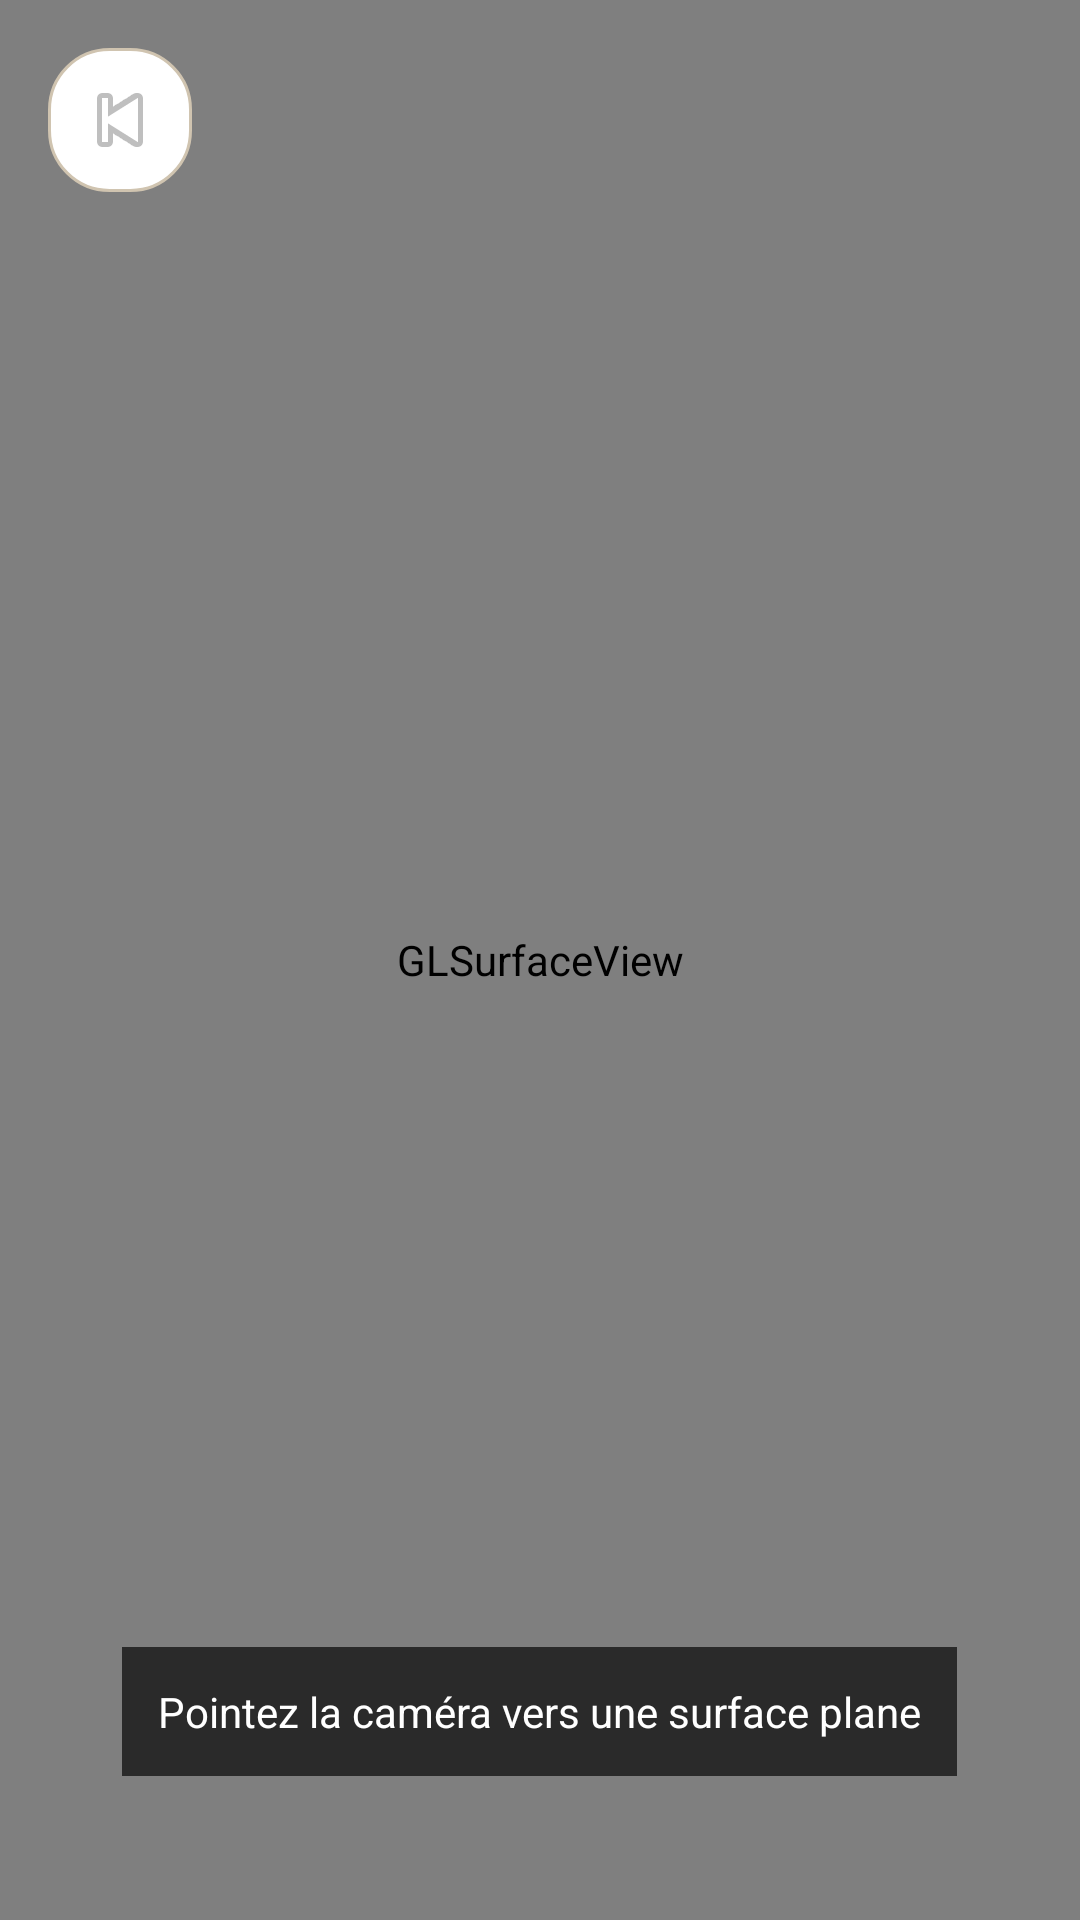

Locate icon controls on the screen. Image size 1080*1920, boxes as (x1, y1, x2, y2).
previous: (48, 48, 192, 192)
